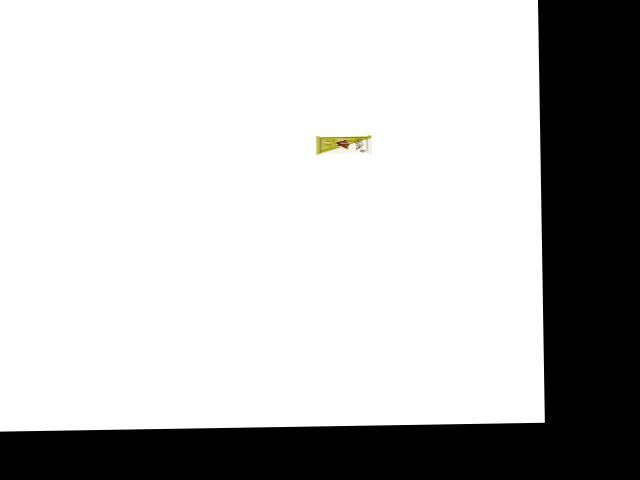chocolate: (313, 129, 375, 158)
